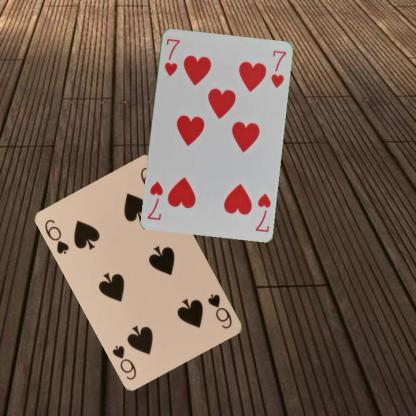6s: (205, 291, 234, 331), (42, 217, 71, 255)
7h: (161, 36, 181, 77), (253, 190, 272, 233)
